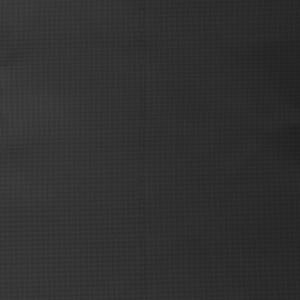Wrinkle: (213, 24, 300, 163), (1, 23, 52, 198)
